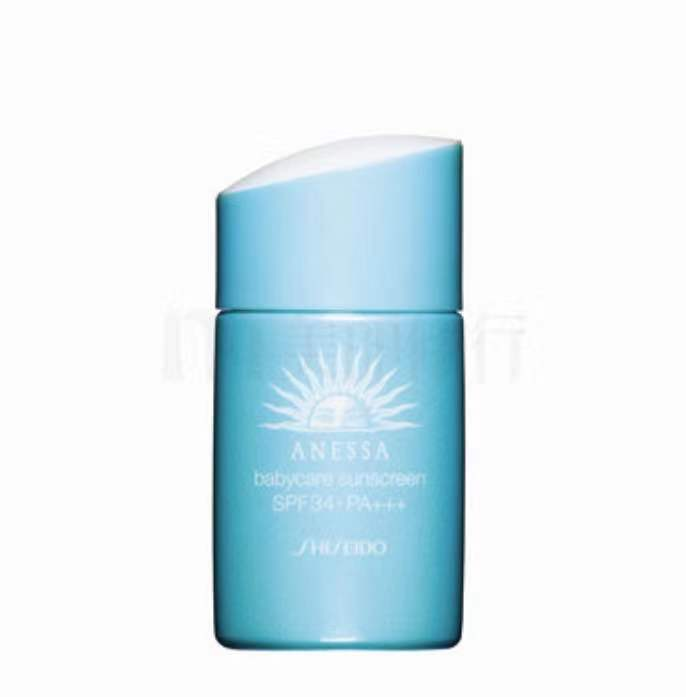cosmetic: (214, 137, 469, 650)
